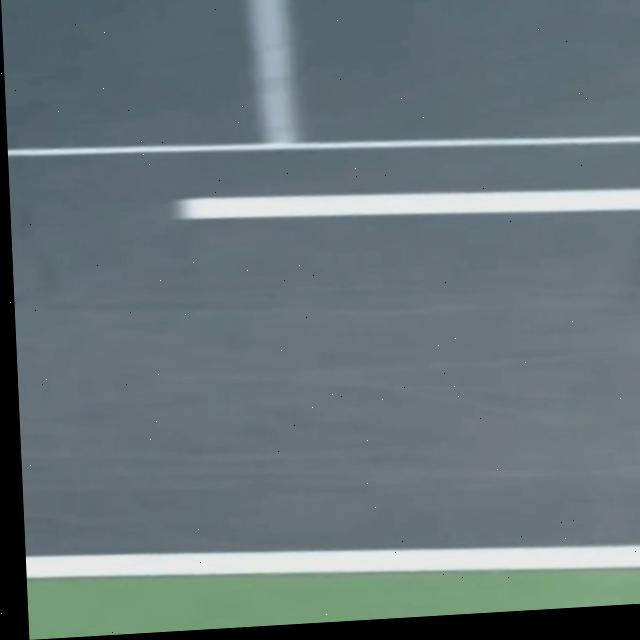center: (174, 188, 640, 219)
right: (25, 544, 640, 578)
